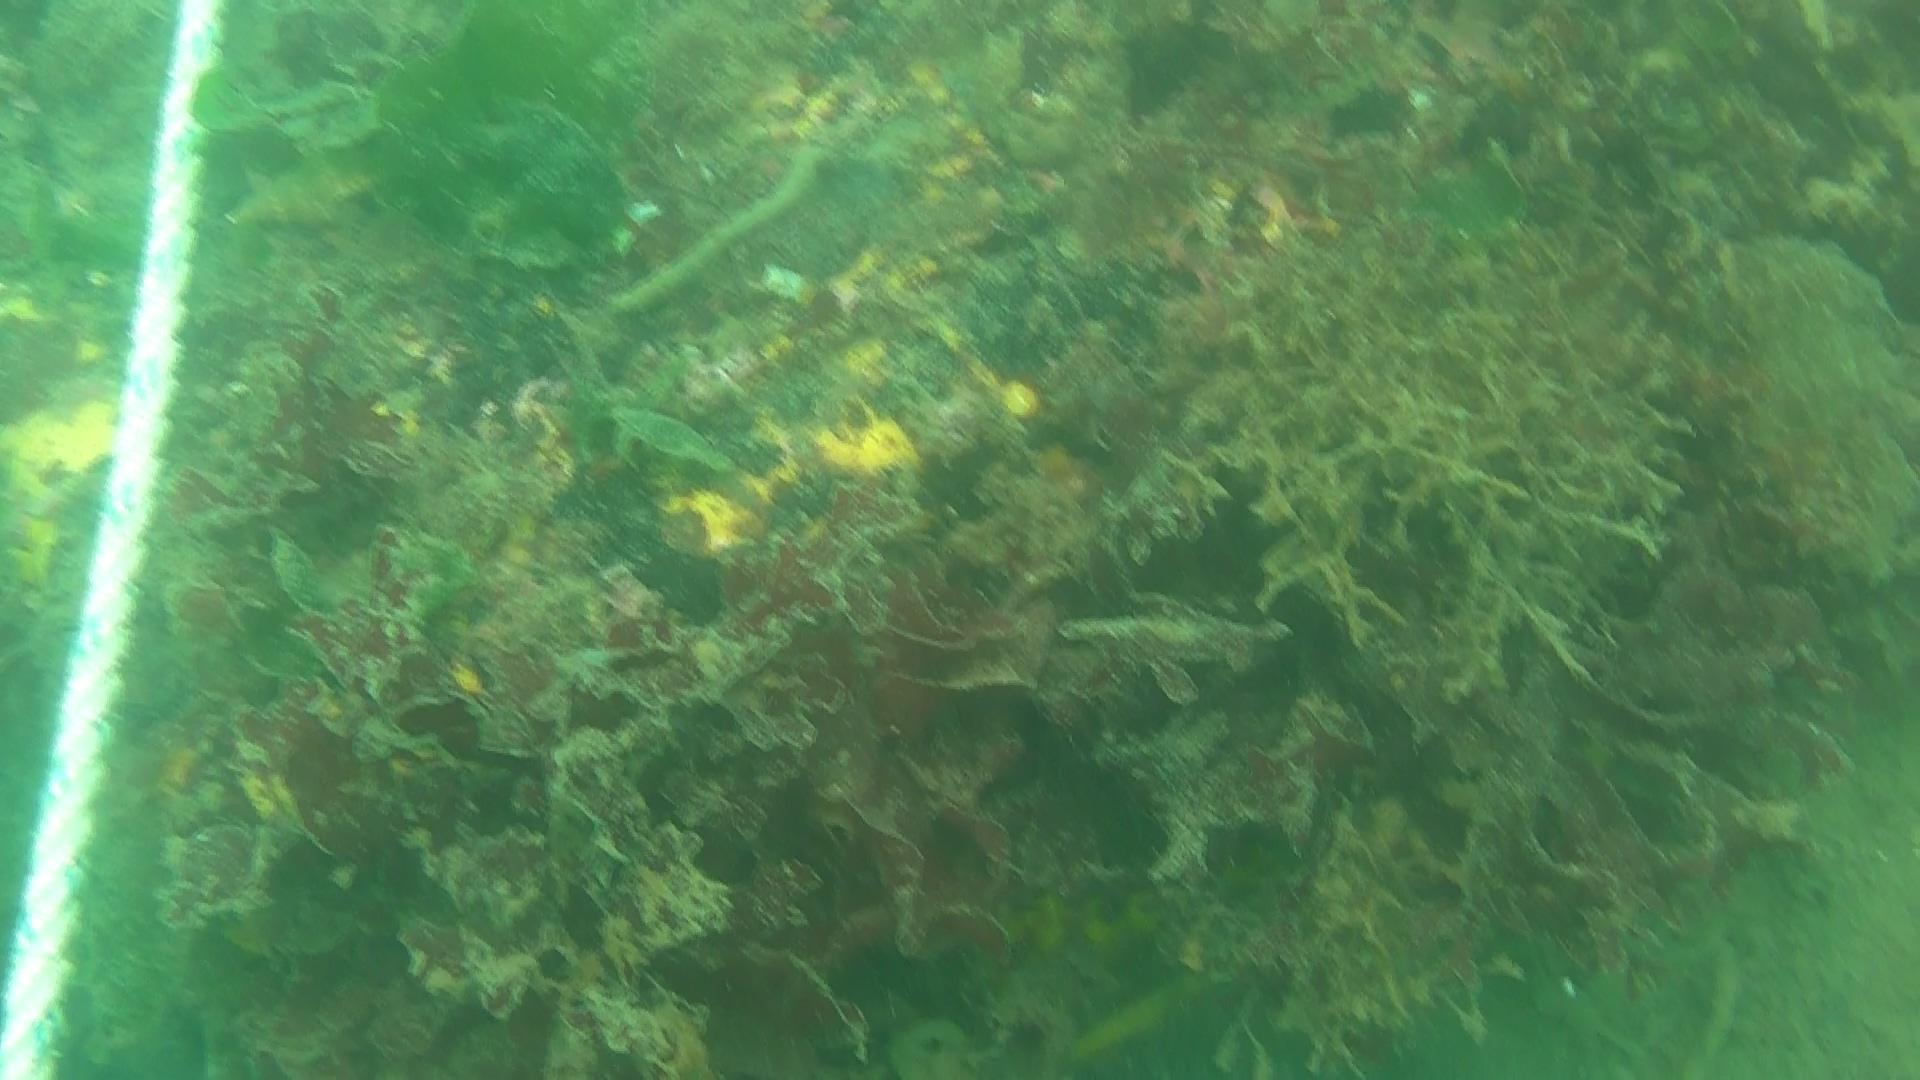rope: (0, 0, 225, 1080)
